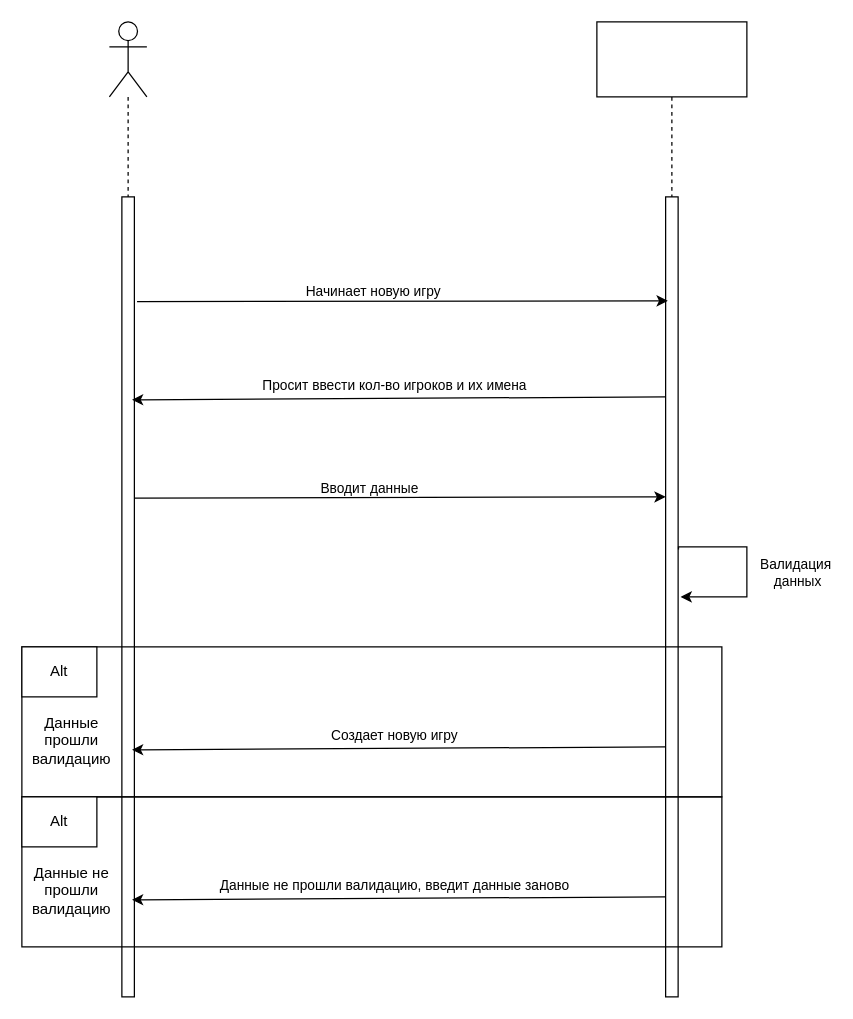
The diagram is 853 pixels wide and 1019 high, and some of its shapes have lost their labels. The box of each missing label's shape, as (x1, y1, x2, y2) in pixels:
Игрок: (108, 21, 147, 97)
Система: (596, 21, 747, 97)
